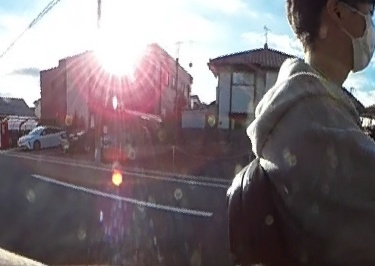person: (261, 0, 375, 265)
